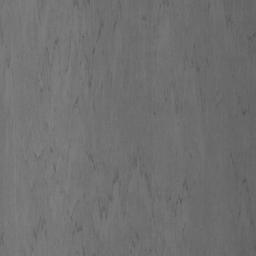Silk spot: (0, 94, 225, 256), (0, 0, 142, 113), (151, 40, 209, 128), (199, 0, 256, 59), (136, 0, 188, 56), (230, 152, 254, 226), (200, 88, 249, 117), (0, 222, 9, 247)
